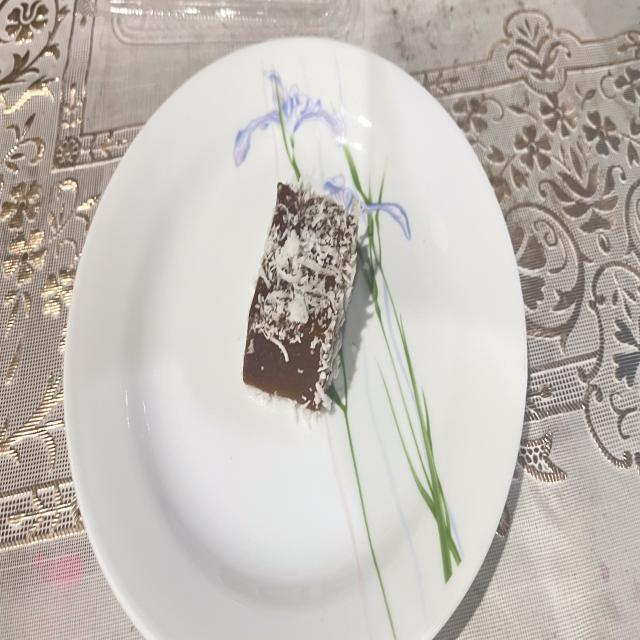kaswi: (242, 182, 358, 409)
